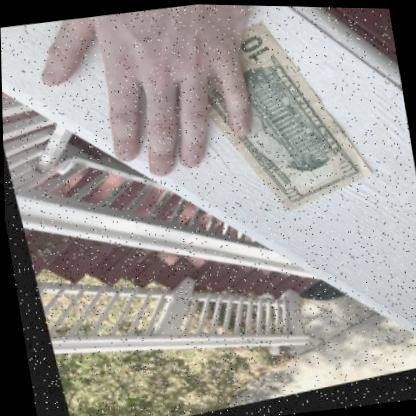ten-back: (171, 23, 366, 214)
